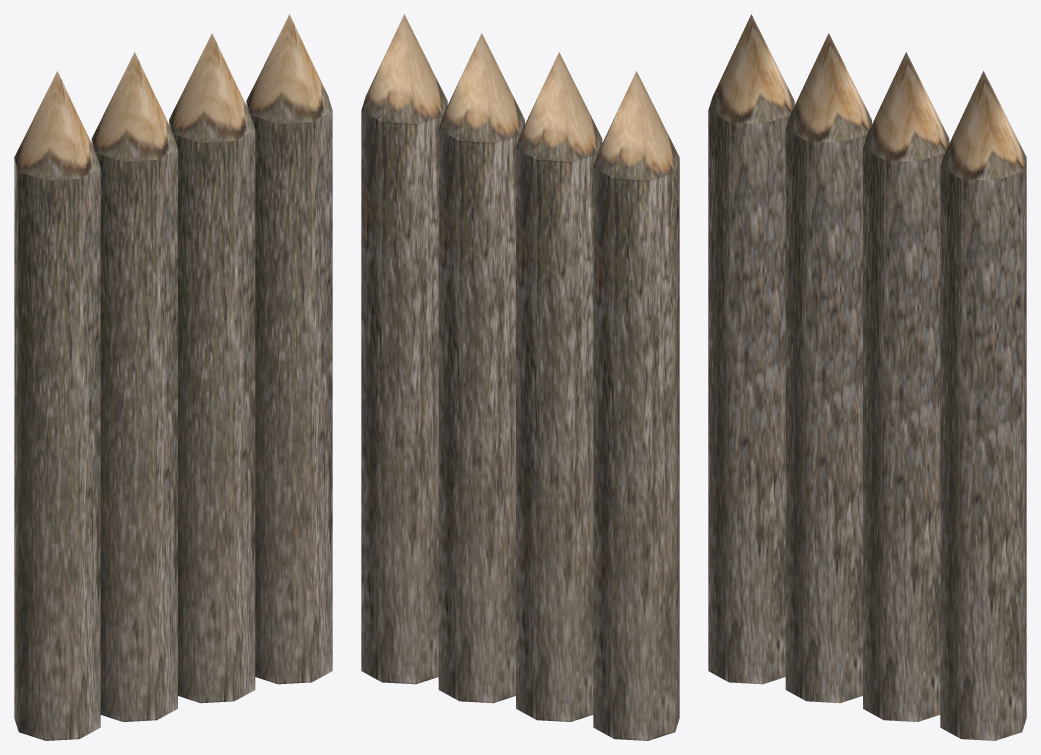
Rendered from LogWall Mesh.fbx.
3 views of the same model, side by side, from view 1: azimuth 30°, elevation 25°; view 2: azimuth 150°, elevation 25°; view 3: azimuth 330°, elevation 25° (orthographic).
Visible parts, largest first — view 1: LogWallPart; view 2: LogWallPart; view 3: LogWallPart.
Boxes of the visible parts, x1,y1,x2,y2 form: LogWallPart: [14, 14, 332, 740]; LogWallPart: [361, 14, 679, 740]; LogWallPart: [708, 14, 1026, 740].
Bounding box in the file's own units: 839 × 1689 × 210.
